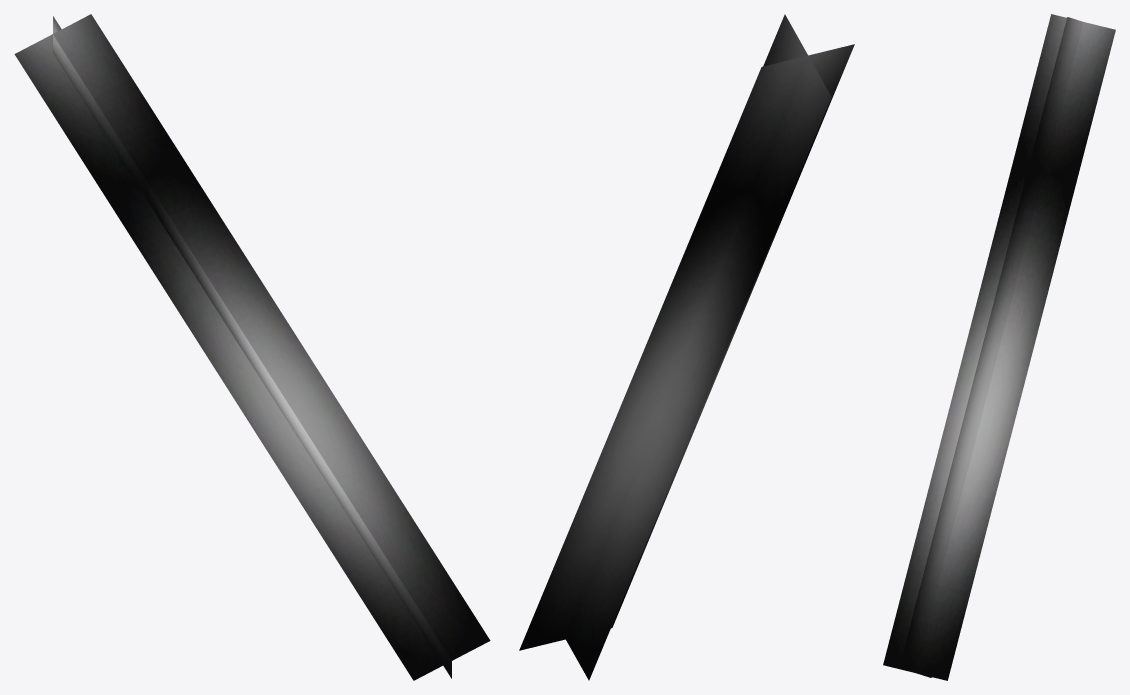
File: vfx_kurp_0898.dae
3 renders of one model, left to right at view 1: azimuth 30°, elevation 25°; view 2: azimuth 150°, elevation 25°; view 3: azimuth 270°, elevation 25°, orthographic. The views are drawn at different scales.
Visible parts, largest first — view 1: vfx_kurp_0898; view 2: vfx_kurp_0898; view 3: vfx_kurp_0898.
Boxes of the visible parts, x1,y1,x2,y2 form: vfx_kurp_0898: (14, 14, 490, 680); vfx_kurp_0898: (519, 14, 854, 680); vfx_kurp_0898: (883, 14, 1115, 680).
Bounding box in the file's own units: 0.8365 × 0.5609 × 1.49.
1 material, 1 textured.
